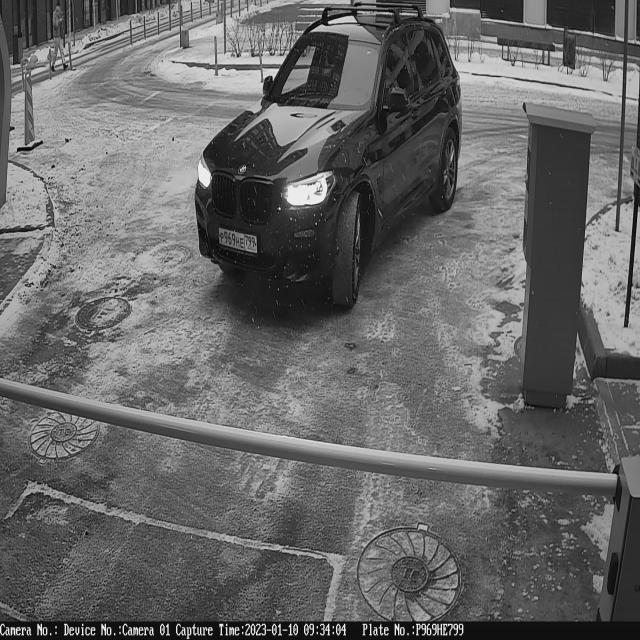car-plate-numbers: (215, 223, 260, 259)
